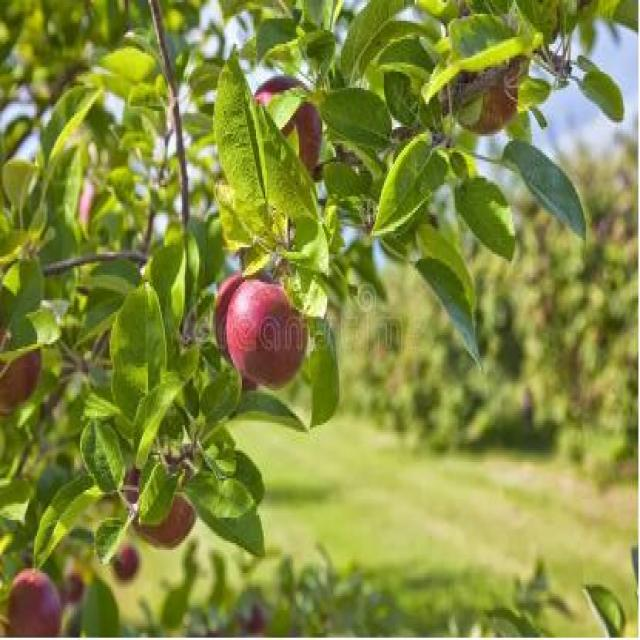fruit: (224, 277, 306, 386), (258, 76, 322, 178), (452, 42, 518, 136), (6, 567, 61, 634), (133, 488, 195, 547), (214, 272, 253, 361), (0, 337, 42, 413), (112, 543, 140, 581), (237, 600, 267, 633), (59, 566, 84, 604), (78, 180, 97, 227)
